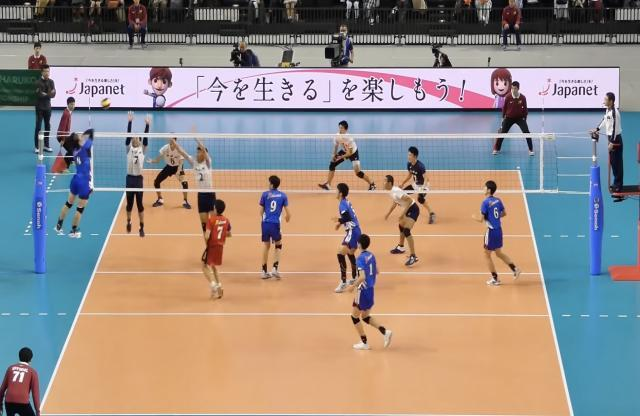spike: (54, 120, 98, 244)
